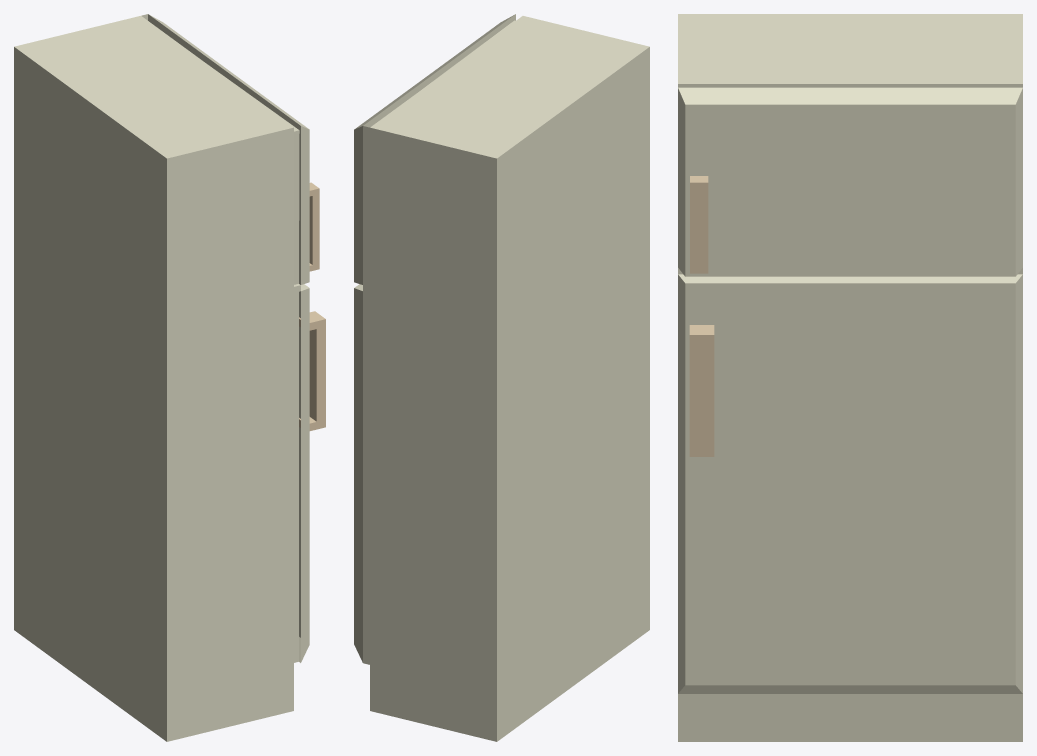
The model's file is Fridge.fbx.
The picture shows the model from 3 angles, left to right: view 1: azimuth 30°, elevation 25°; view 2: azimuth 150°, elevation 25°; view 3: azimuth 270°, elevation 25°; orthographic projection. The views are drawn at different scales.
Visible parts, largest first — view 1: Cube; view 2: Cube; view 3: Cube.
Boxes of the visible parts, <box> form: Cube: <box>14,14,325,741</box>; Cube: <box>354,14,649,741</box>; Cube: <box>678,14,1022,741</box>.
Bounding box in the file's own units: 245 × 832 × 395.
